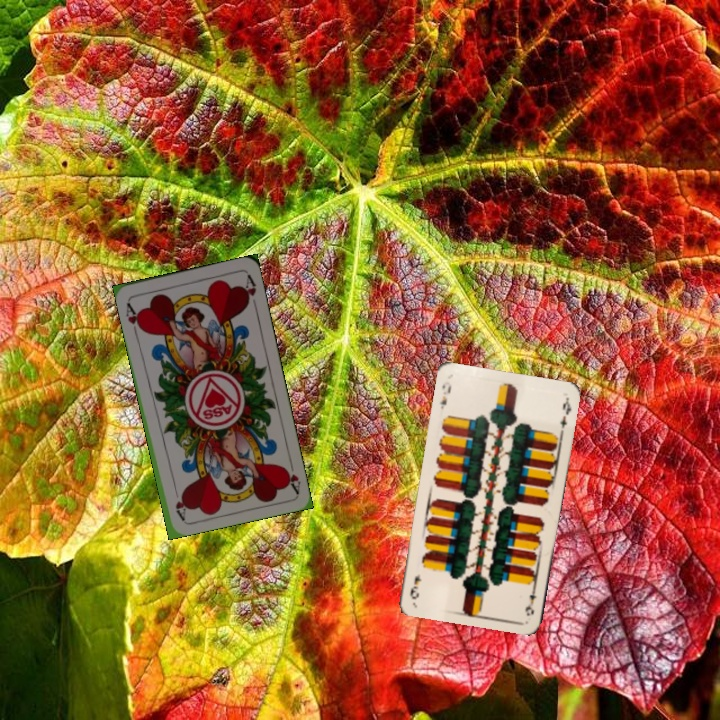E9: (522, 580, 539, 619), (435, 381, 454, 411)
HA: (279, 454, 303, 495), (122, 299, 145, 337)
